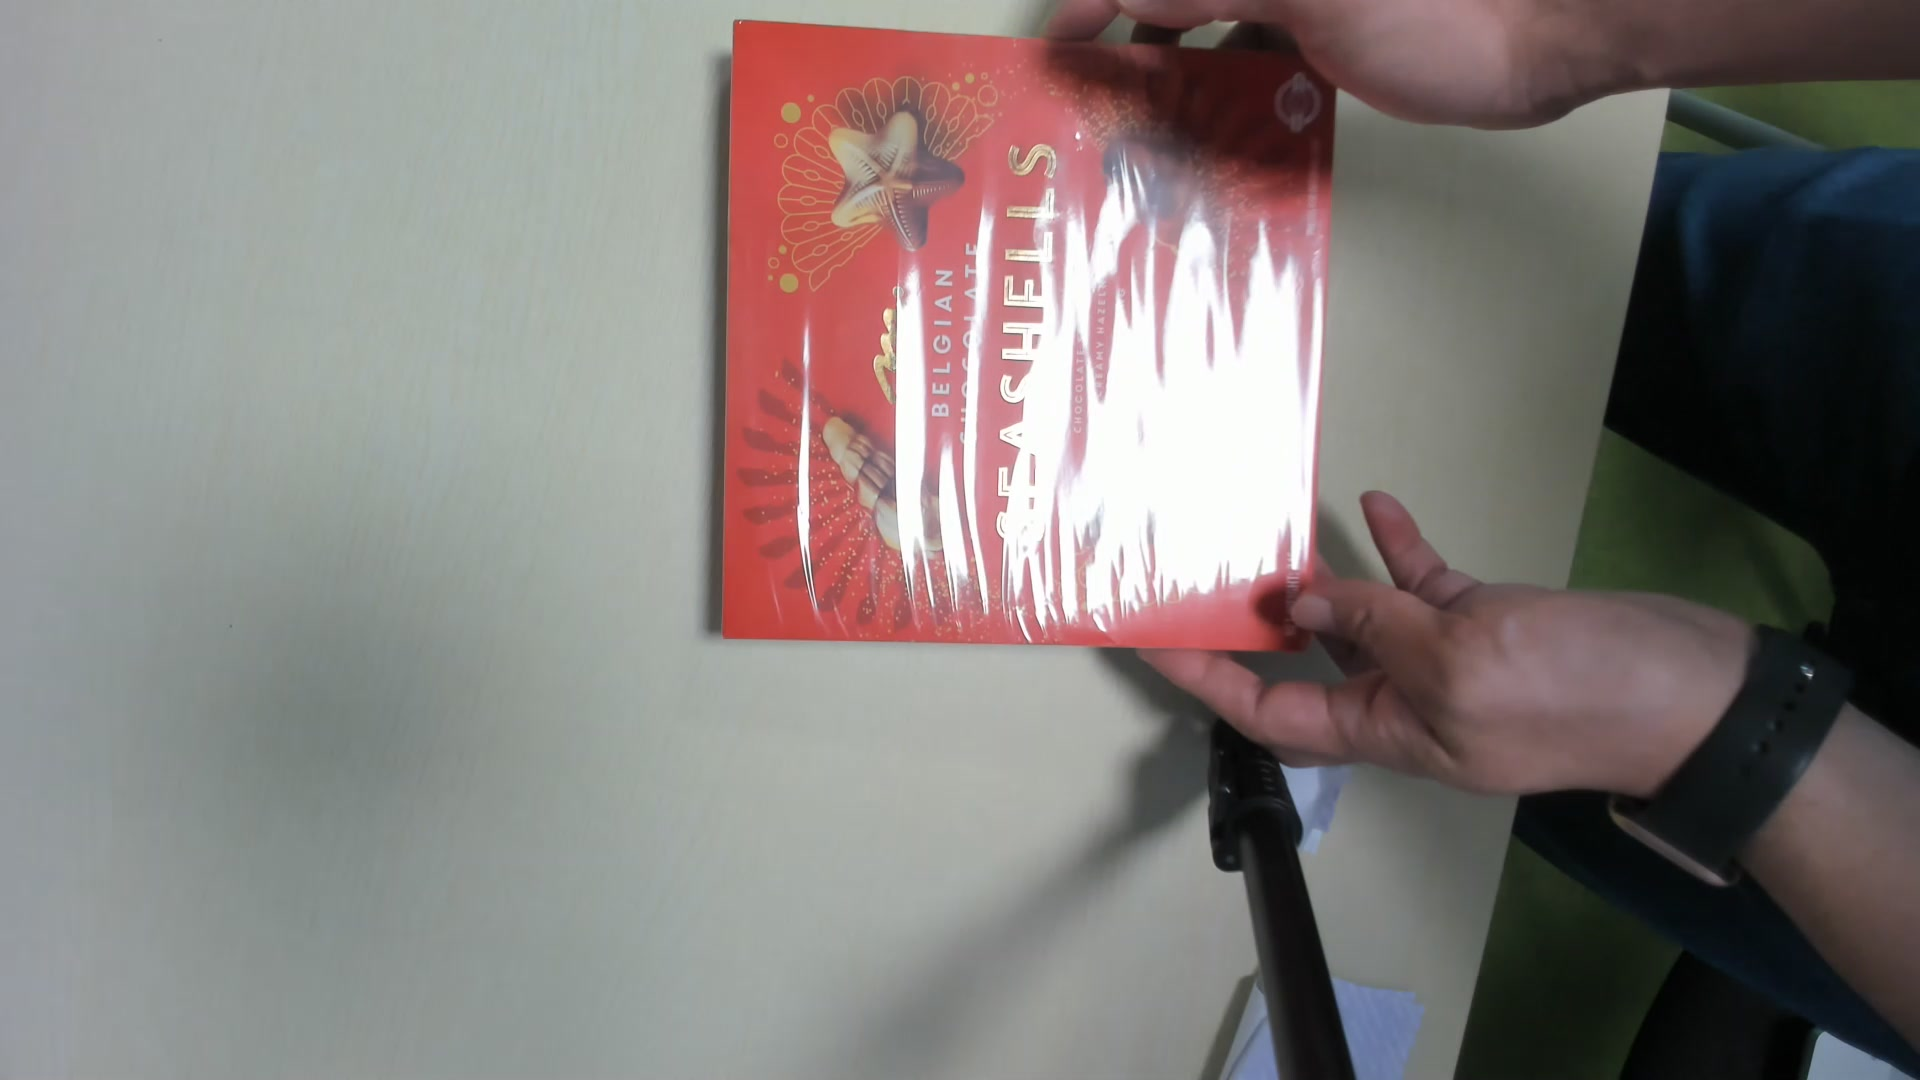SweetsChocolatesOthers_200-299g_Halal_Nonhealthy: (709, 29, 1331, 655)
